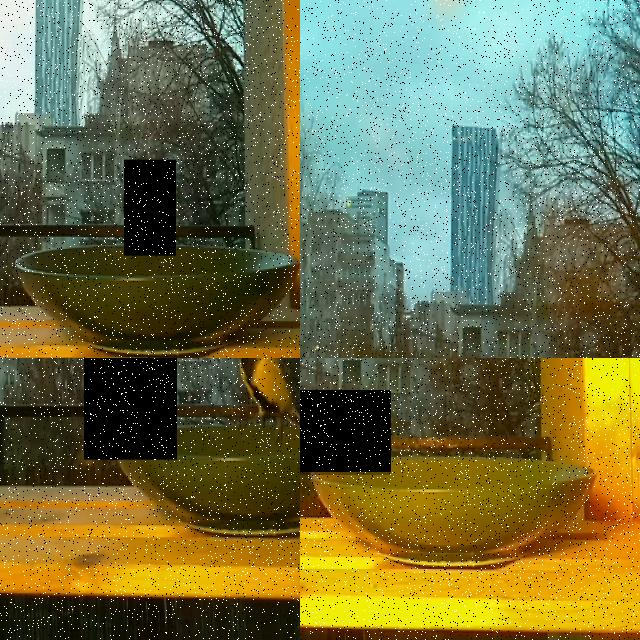Bogatka: (233, 358, 300, 436), (124, 160, 176, 256)
Modraszka: (300, 390, 391, 474)
Wrobel: (84, 358, 177, 459)
